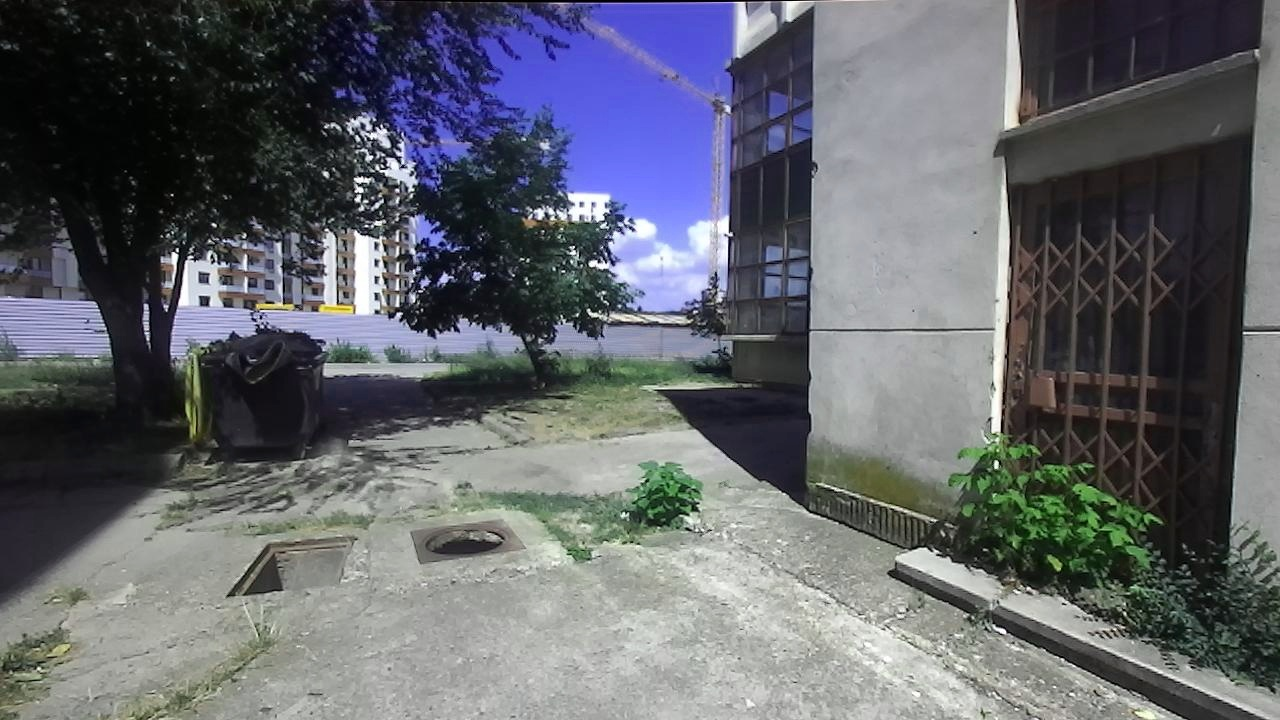drain: (223, 532, 359, 599), (419, 525, 513, 558)
